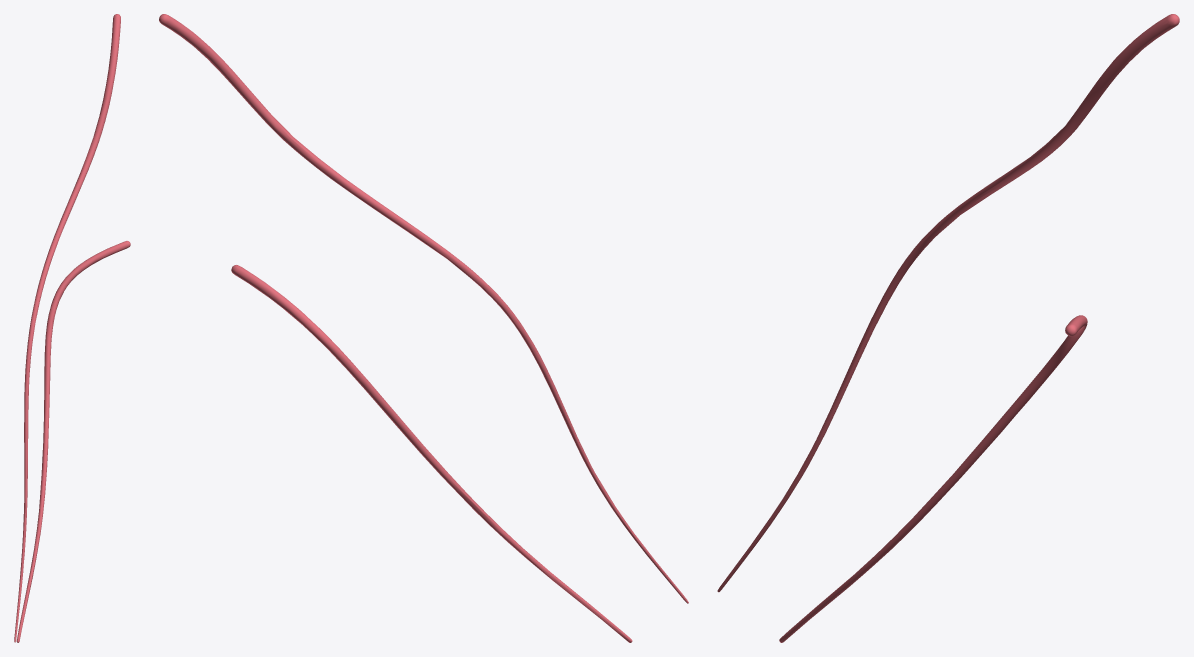
Rendered from fma22905_cx47.glb.
The picture shows the model from 3 angles, left to right: view 1: azimuth 30°, elevation 25°; view 2: azimuth 150°, elevation 25°; view 3: azimuth 270°, elevation 25°; orthographic projection. The views are drawn at different scales.
Visible parts, largest first — view 1: FMA22905_CX47; view 2: FMA22905_CX47; view 3: FMA22905_CX47.
Part boxes in pixels (x1,y1,x2,y2): FMA22905_CX47: [14, 14, 130, 642]; FMA22905_CX47: [159, 14, 688, 642]; FMA22905_CX47: [717, 14, 1179, 642].
Bounding box in the file's own units: 0.051 × 0.0974 × 0.0508.
